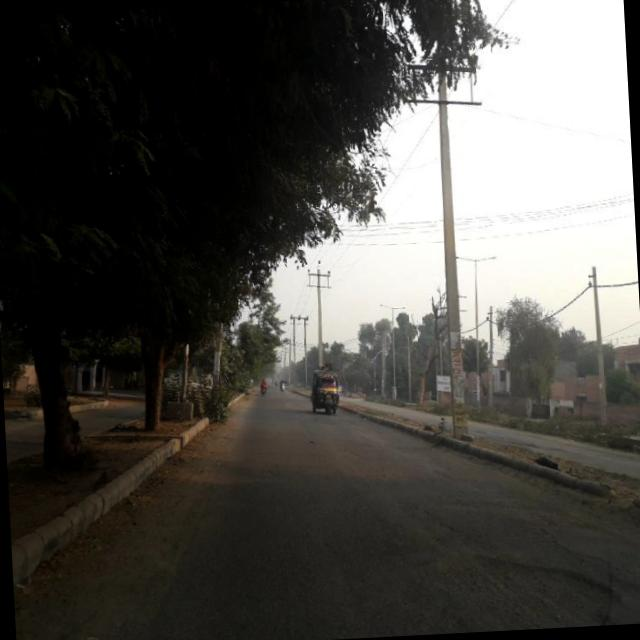pothole: (387, 526, 626, 636)
